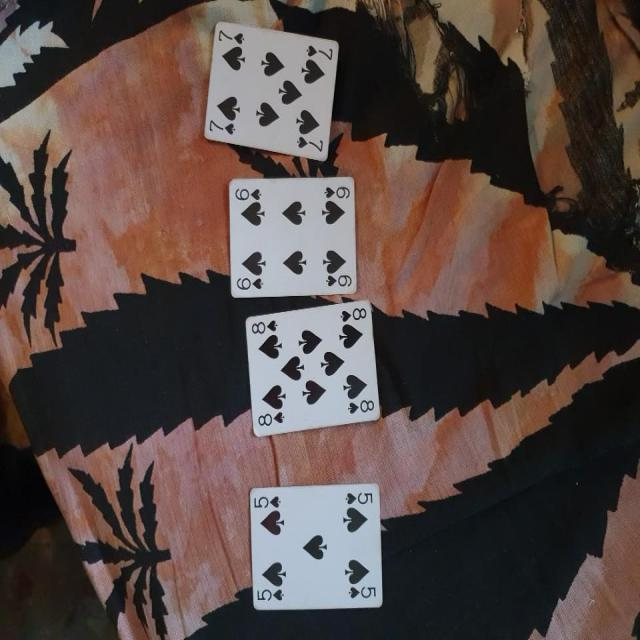5 of spades: (244, 484, 386, 616)
6 of spades: (225, 176, 358, 303)
7 of spades: (197, 11, 342, 160)
8 of spades: (243, 300, 386, 450)
